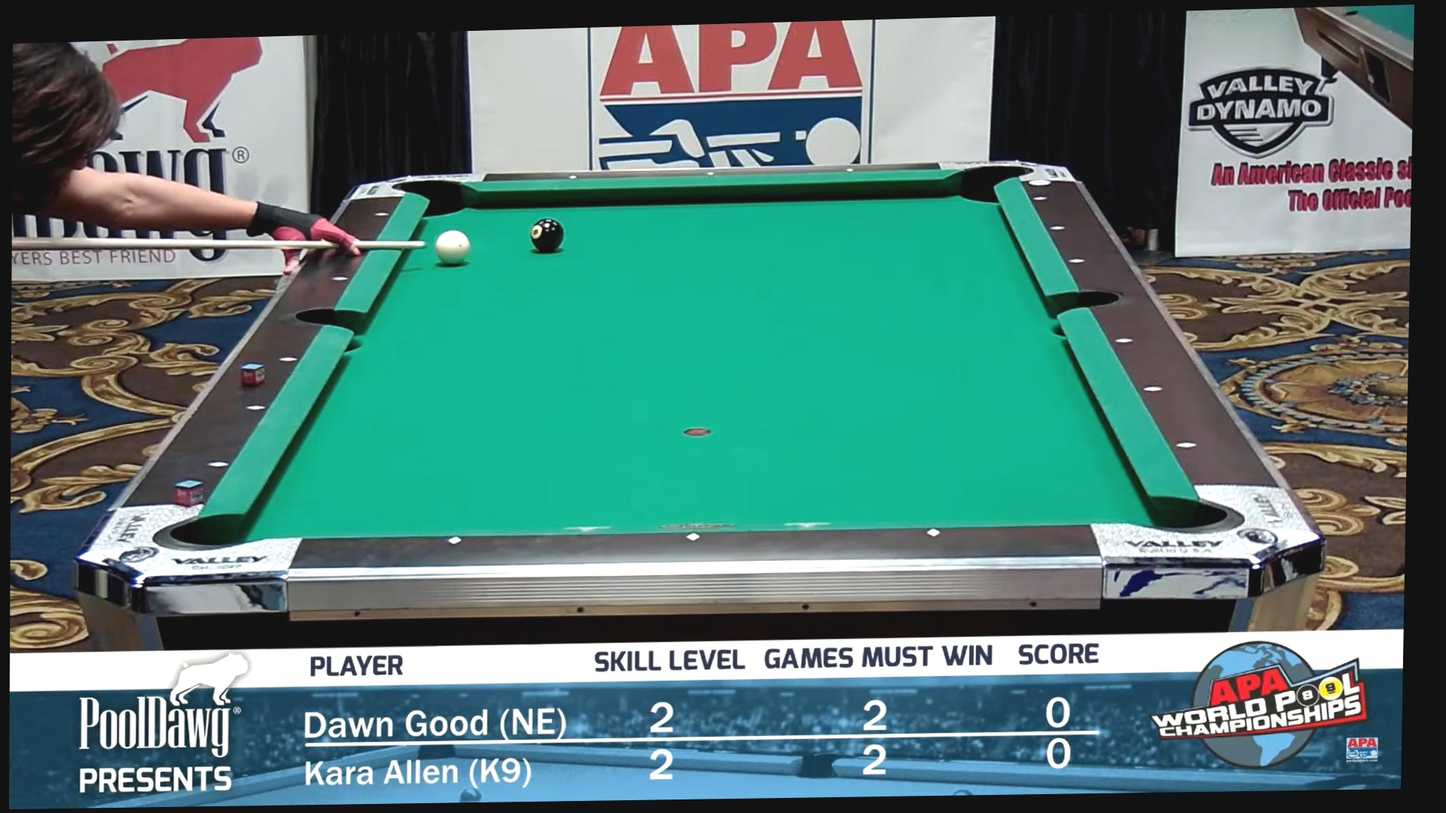Black: (529, 217, 565, 253)
Cue: (435, 229, 469, 266)
Solid: (209, 460, 226, 471), (246, 401, 263, 412), (684, 530, 701, 541), (446, 535, 463, 546), (373, 208, 389, 219), (1032, 193, 1048, 204), (1144, 385, 1160, 396), (564, 172, 581, 182), (1048, 222, 1065, 232), (1066, 255, 1083, 265), (1177, 441, 1194, 451), (279, 355, 295, 365), (332, 275, 348, 285), (702, 169, 718, 179), (842, 165, 858, 175), (1113, 335, 1129, 345), (925, 526, 941, 536)
